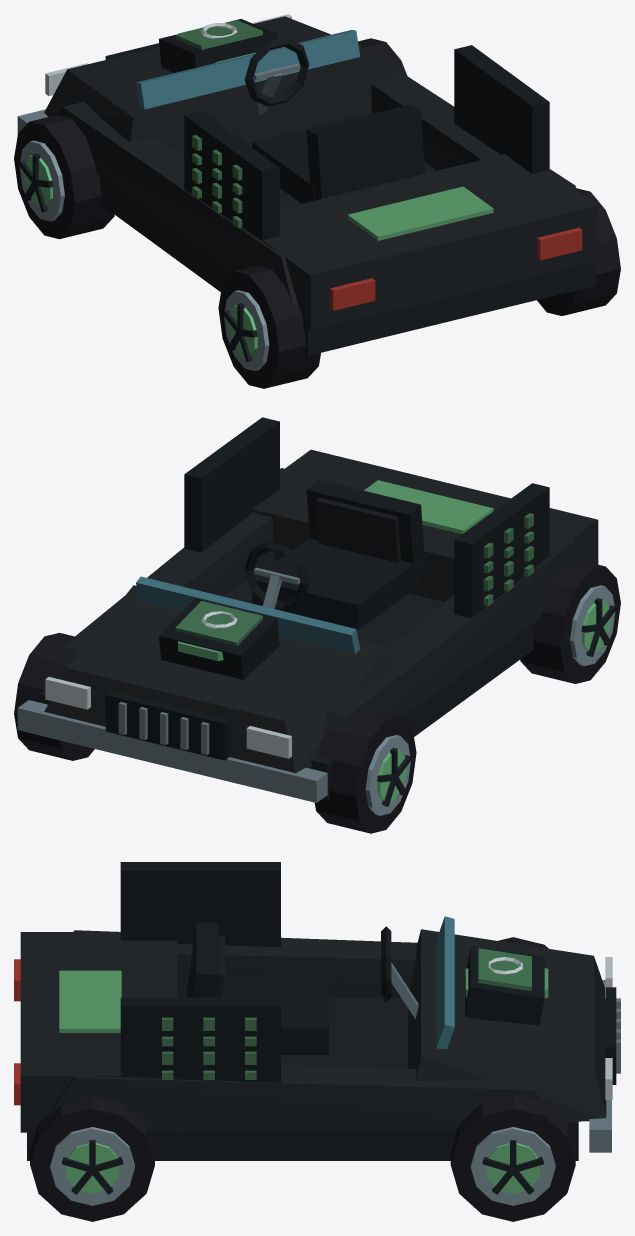
Rendered from kart.glb.
3 renders of one model, top to bottom at view 1: azimuth 30°, elevation 25°; view 2: azimuth 150°, elevation 25°; view 3: azimuth 270°, elevation 25°, orthographic. The views are drawn at different scales.
Parts seen in each view (by area): view 1: identity-sedan-sedan-road-car-body, identity-sedan-motif-matrix, identity-sedan-driver-cockpit, wheel-front-left, wheel-rear-left, identity-sedan-motif-scanner, wheel-rear-right, wheel-front-right; view 2: identity-sedan-sedan-road-car-body, identity-sedan-driver-cockpit, identity-sedan-motif-matrix, wheel-front-left, wheel-rear-left, identity-sedan-motif-scanner, wheel-front-right; view 3: identity-sedan-sedan-road-car-body, identity-sedan-motif-matrix, wheel-front-right, wheel-rear-right, identity-sedan-driver-cockpit, identity-sedan-motif-scanner.
Boxes of the visible parts, x1,y1,x2,y2 form: identity-sedan-sedan-road-car-body: (17,14,598,355); identity-sedan-motif-matrix: (184,45,549,239); identity-sedan-driver-cockpit: (244,37,424,203); wheel-front-left: (14,115,114,239); wheel-rear-left: (218,265,320,388); identity-sedan-motif-scanner: (159,19,277,73); wheel-rear-right: (537,188,620,315); wheel-front-right: (358,38,407,75); identity-sedan-sedan-road-car-body: (17,449,598,802); identity-sedan-driver-cockpit: (244,479,425,630); identity-sedan-motif-matrix: (184,417,549,618); wheel-front-left: (314,709,416,833); wheel-rear-left: (520,561,620,683); identity-sedan-motif-scanner: (159,598,279,679); wheel-front-right: (14,633,94,760); identity-sedan-sedan-road-car-body: (14,916,620,1160); identity-sedan-motif-matrix: (120,862,280,1082); wheel-front-right: (450,1094,575,1221); wheel-rear-right: (30,1097,154,1221); identity-sedan-driver-cockpit: (187,921,418,1054); identity-sedan-motif-scanner: (465,946,544,1025).
Bounding box in the file's own units: 2.07 × 1.09 × 2.92.
